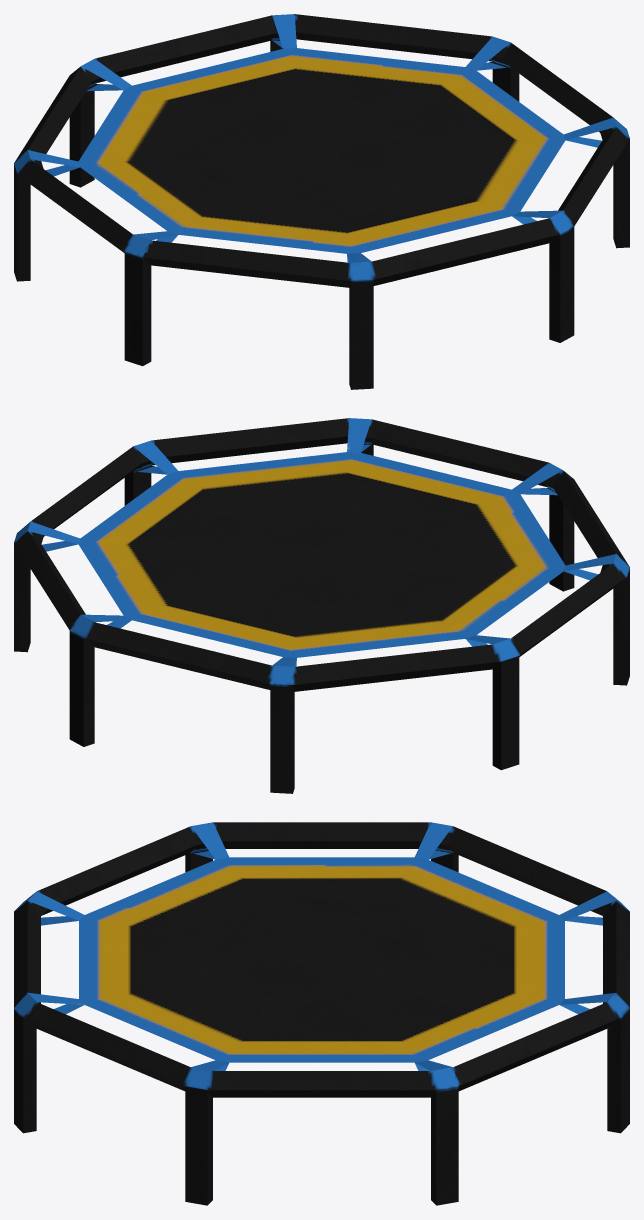
The model's file is Trampoline.fbx.
3 views of the same model, one above another, from view 1: azimuth 30°, elevation 25°; view 2: azimuth 150°, elevation 25°; view 3: azimuth 270°, elevation 25° (orthographic). The views are drawn at different scales.
Parts seen in each view (by area): view 1: Trampoline; view 2: Trampoline; view 3: Trampoline.
Boxes of the visible parts, left/top/right/bottom form: Trampoline: left=14, top=14, right=629, bottom=389; Trampoline: left=14, top=418, right=629, bottom=793; Trampoline: left=14, top=822, right=629, bottom=1205.
Bounding box in the file's own units: 193 × 44.61 × 193.
Materials: 1 (1 with a texture image).
